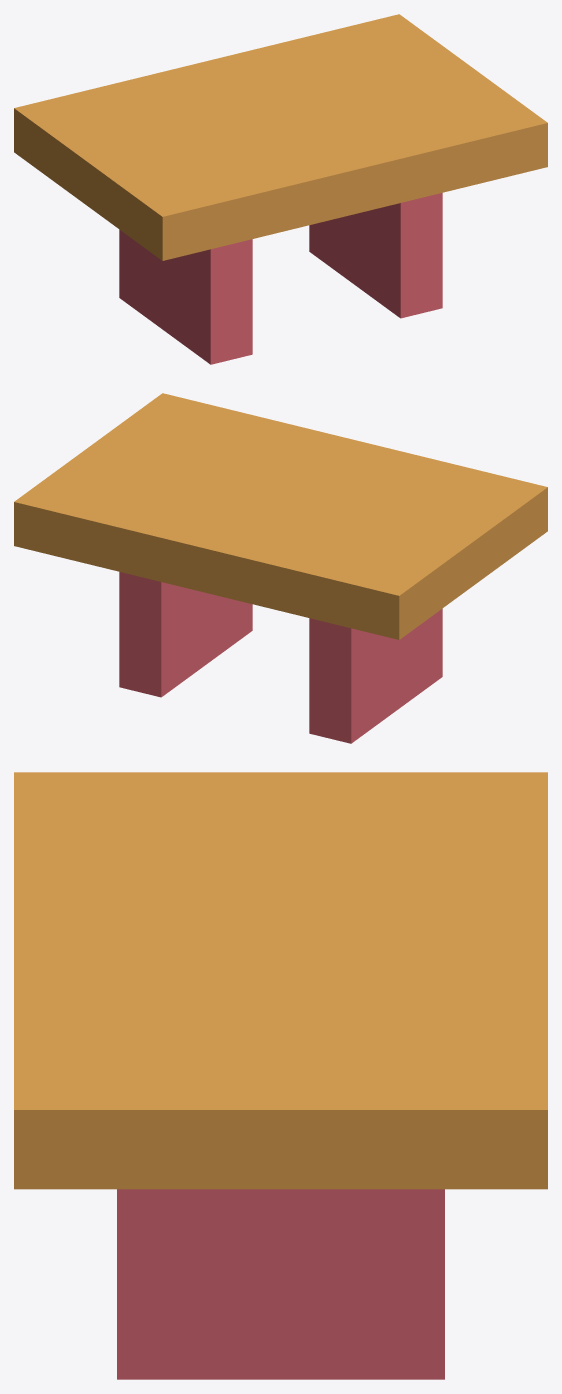
Rendered from table.glb.
3 views of the same model, one above another, from view 1: azimuth 30°, elevation 25°; view 2: azimuth 150°, elevation 25°; view 3: azimuth 270°, elevation 25° (orthographic). The views are drawn at different scales.
Visible parts, largest first — view 1: Cube, Cube.001, Cube.002; view 2: Cube, Cube.001, Cube.002; view 3: Cube, Cube.002.
Part boxes in pixels (<box>): Cube: <box>14,14,547,260</box>; Cube.001: <box>119,229,252,364</box>; Cube.002: <box>309,193,442,318</box>; Cube: <box>14,393,547,639</box>; Cube.001: <box>309,608,442,743</box>; Cube.002: <box>119,572,252,697</box>; Cube: <box>14,772,547,1189</box>; Cube.002: <box>117,1189,444,1379</box>.
Size of the model in its own units: 4.87 by 2.27 by 3.25.
